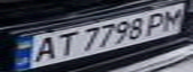7: (78, 25, 103, 52), (97, 21, 118, 48)
8: (127, 15, 151, 40)
9: (112, 18, 133, 45)
A: (27, 34, 60, 63)
M: (157, 6, 190, 33)
P: (139, 9, 172, 36)
T: (48, 30, 81, 59)
